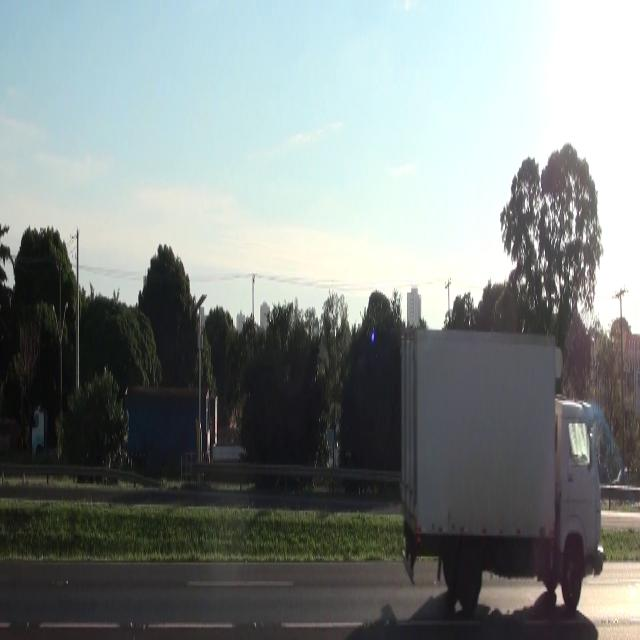-axle: (455, 539, 486, 607), (560, 545, 584, 622)
